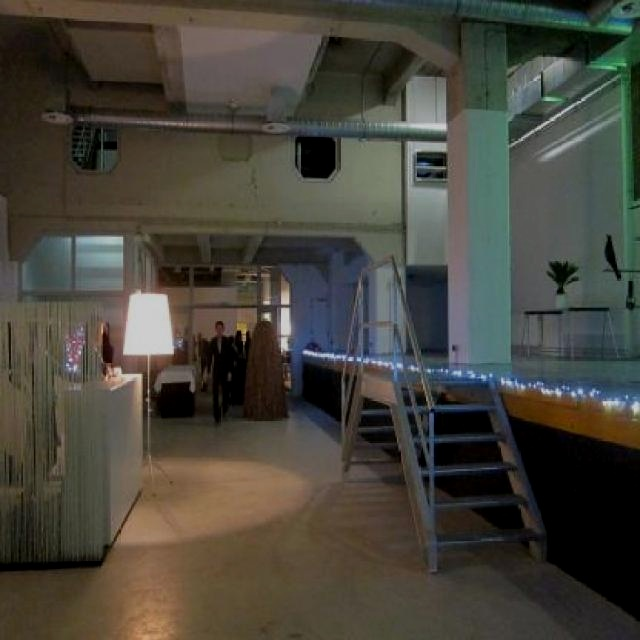stair: (402, 381, 540, 570), (352, 389, 400, 466)
